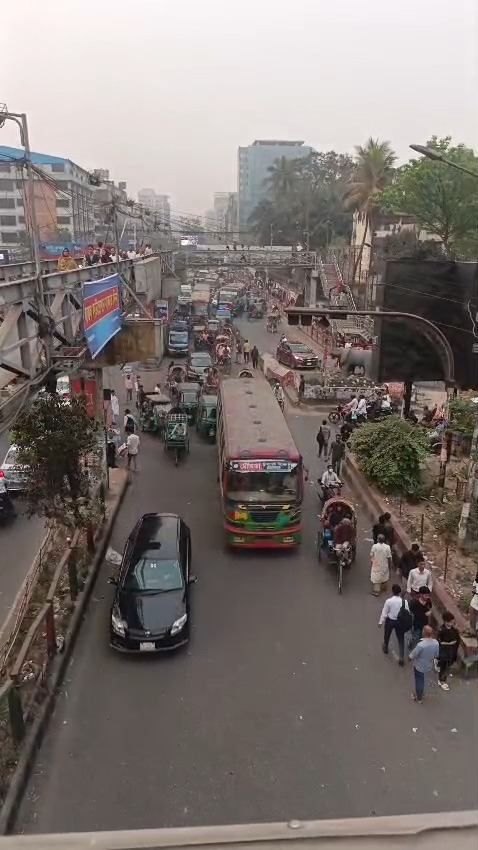Bikes: (323, 391, 376, 437), (322, 459, 351, 506)
Bus: (217, 357, 318, 572), (218, 270, 249, 314), (190, 279, 216, 329)
Pickup: (168, 319, 203, 368)
auto-ricksaw: (319, 494, 367, 594), (133, 374, 181, 434), (161, 412, 197, 466)
cng: (196, 392, 224, 437), (176, 383, 204, 427)
private car: (105, 499, 218, 725), (6, 429, 58, 501), (272, 325, 322, 380), (189, 343, 217, 377)
